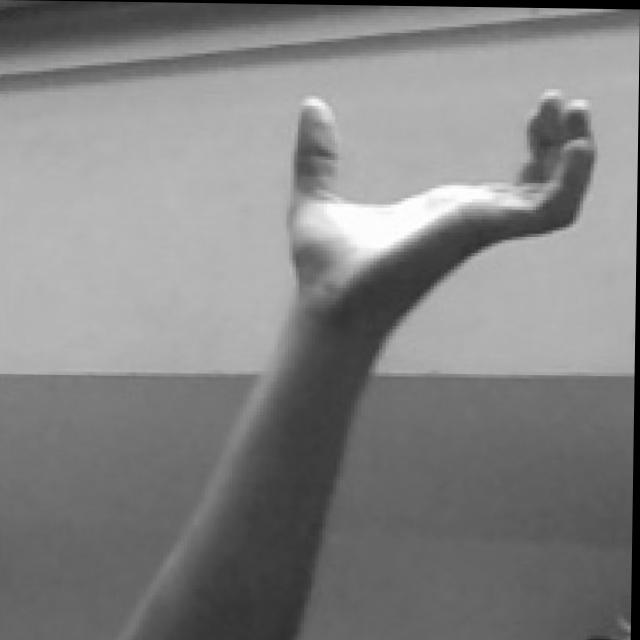space: (280, 78, 598, 317)
